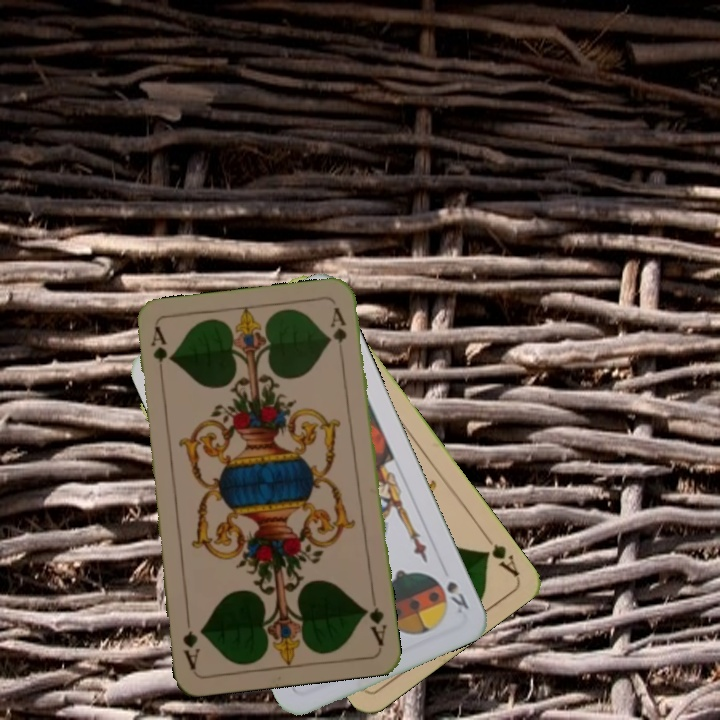GA: (478, 528, 522, 579), (360, 590, 390, 649), (147, 323, 170, 382)
SK: (442, 577, 472, 617)
